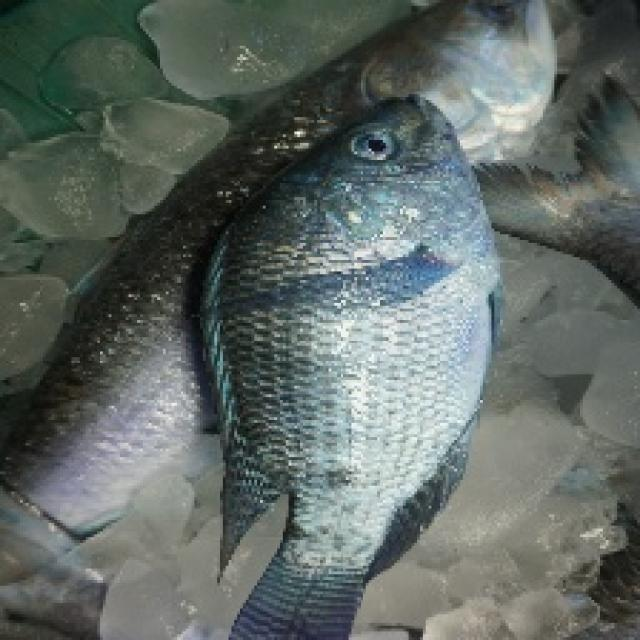Fresh: (175, 85, 499, 640)
